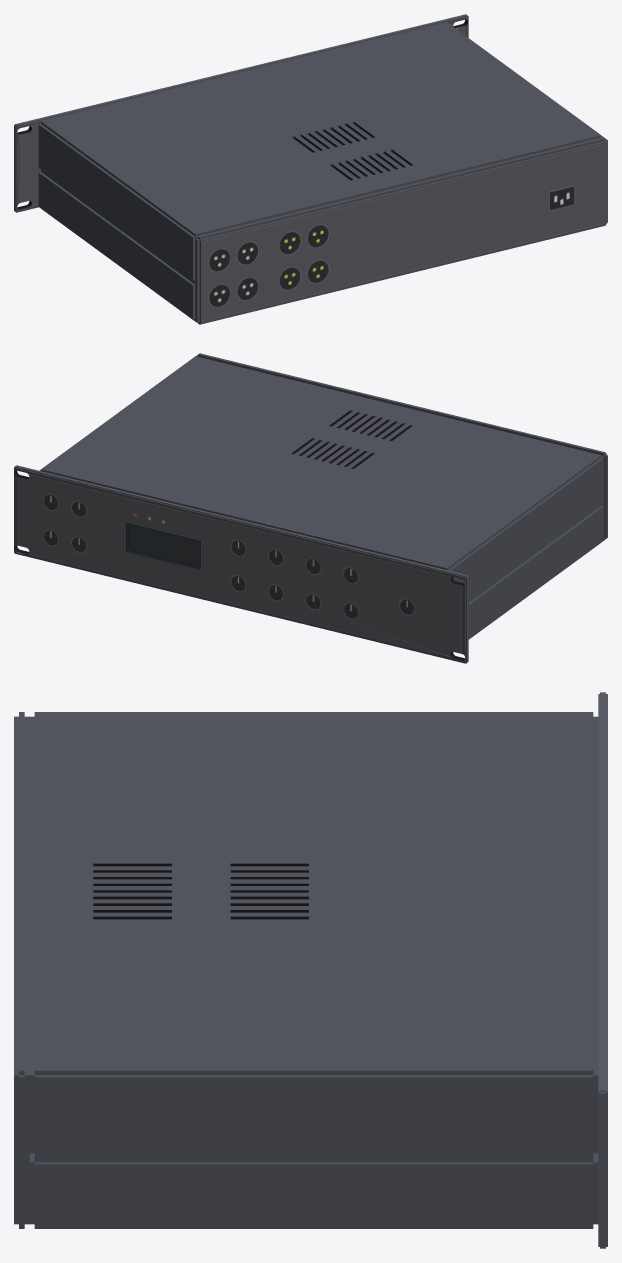
Rendered from ssl-the-bus-plus.glb.
3 renders of one model, top to bottom at view 1: azimuth 30°, elevation 25°; view 2: azimuth 150°, elevation 25°; view 3: azimuth 270°, elevation 25°, orthographic. The views are drawn at different scales.
Parts seen in each view (by area): view 1: ssl-the-bus-plus-body; view 2: ssl-the-bus-plus-body; view 3: ssl-the-bus-plus-body.
Boxes of the visible parts, box(x1,y1,x2,y2) form: ssl-the-bus-plus-body: box(14, 14, 607, 324); ssl-the-bus-plus-body: box(14, 353, 607, 663); ssl-the-bus-plus-body: box(14, 692, 607, 1248).
Bounding box in the file's own units: 0.483 × 0.089 × 0.303.
Materials: 1 (1 with a texture image).
